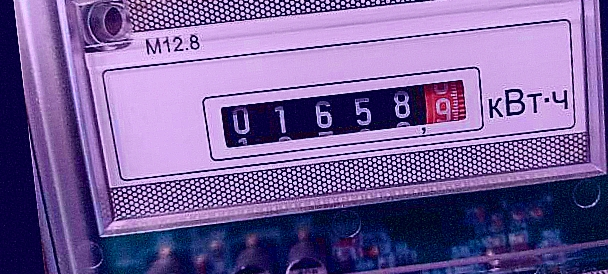0: (228, 102, 253, 136)
1: (272, 102, 289, 134)
5: (352, 93, 374, 127)
6: (312, 97, 335, 130)
8: (390, 87, 413, 121)
9: (432, 94, 452, 122)
screen: (193, 55, 491, 167)
